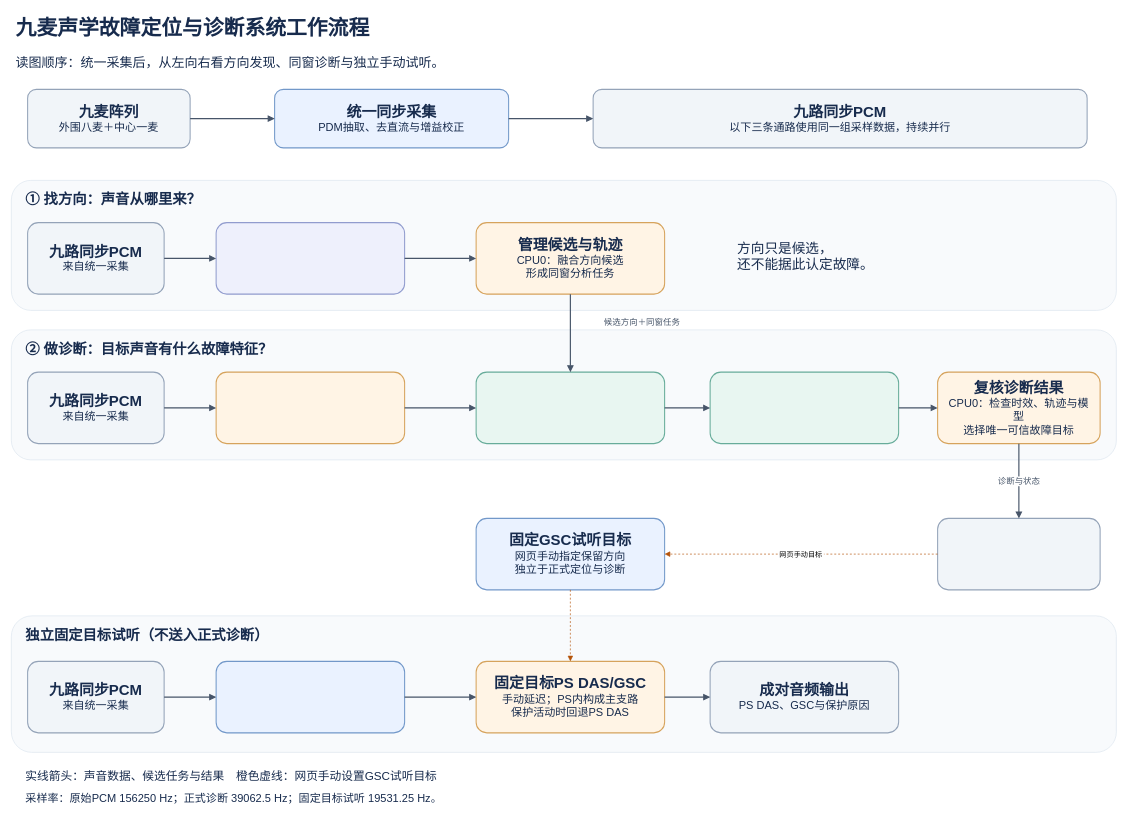
Some shapes in this 1131 by 818 pixel diagram are drawn without their labels. The centre of each missing label's shape, as x and y in pixels:
"分离目标声音 CPU1：同窗候选保真分离 保护目标，抑制其他方向" belongs at (570,407).
"双层浏览器界面 总览 / 调试；诊断双谱" belongs at (1018,554).
"声源发现 PL快速方向图 CPU1多频带联合搜索" belongs at (310,258).
"接收与历史缓存 CPU0：非阻塞DMA接收 按真实采样窗提供九路数据" belongs at (310,407).
"提取故障特征 CPU1：包络与机械阶次分析 对照正常基线，保留未知" belongs at (804,407).
"音频预处理与抽取 CPU0：九路127抽头低通 8倍抽取至19531.25 Hz" belongs at (310,697).
